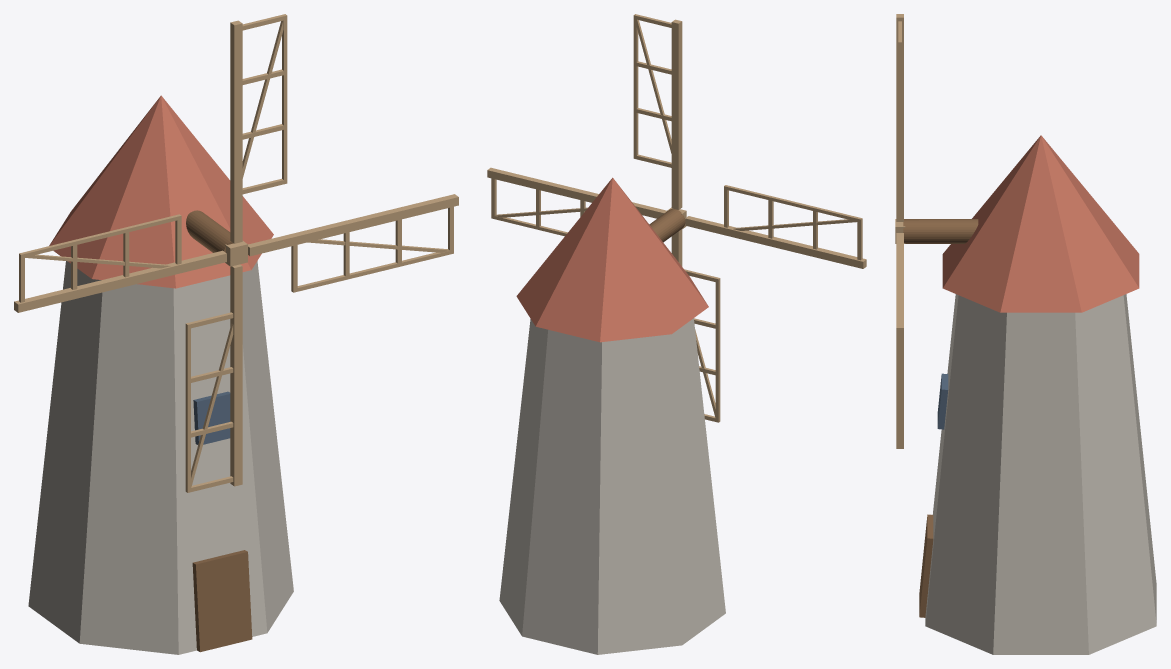
Rendered from windmill.glb.
3 views of the same model, side by side, from view 1: azimuth 30°, elevation 25°; view 2: azimuth 150°, elevation 25°; view 3: azimuth 270°, elevation 25° (orthographic). The views are drawn at different scales.
Visible parts, largest first — view 1: Tower, Roof, Blade1, Blade2, Blade3, Blade4, Door, Window, Shaft; view 2: Tower, Roof, Blade1, Blade4, Blade2, Blade3, Shaft; view 3: Tower, Roof, Shaft, Blade1, Blade2, Door, Blade3, Window.
Boxes of the visible parts, left/top/right/bottom form: Tower: left=28, top=261, right=293, bottom=654; Roof: left=49, top=95, right=273, bottom=288; Blade1: left=225, top=14, right=287, bottom=266; Blade2: left=227, top=194, right=458, bottom=292; Blade3: left=185, top=244, right=245, bottom=492; Blade4: left=14, top=214, right=247, bottom=312; Door: left=192, top=550, right=252, bottom=652; Window: left=193, top=391, right=230, bottom=444; Shaft: left=186, top=210, right=233, bottom=252; Tower: left=499, top=318, right=725, bottom=654; Roof: left=516, top=177, right=708, bottom=342; Blade1: left=633, top=14, right=686, bottom=218; Blade4: left=678, top=185, right=866, bottom=268; Blade2: left=487, top=167, right=681, bottom=236; Blade3: left=671, top=229, right=720, bottom=422; Shaft: left=649, top=209, right=685, bottom=242; Tower: left=925, top=294, right=1156, bottom=654; Roof: left=942, top=135, right=1139, bottom=312; Shaft: left=903, top=219, right=978, bottom=243; Blade1: left=895, top=14, right=905, bottom=243; Blade2: left=895, top=233, right=903, bottom=379; Door: left=919, top=514, right=933, bottom=617; Blade3: left=895, top=234, right=903, bottom=448; Window: left=937, top=373, right=948, bottom=429.
Bounding box in the file's own units: 7.6 × 10.4 × 4.18.
